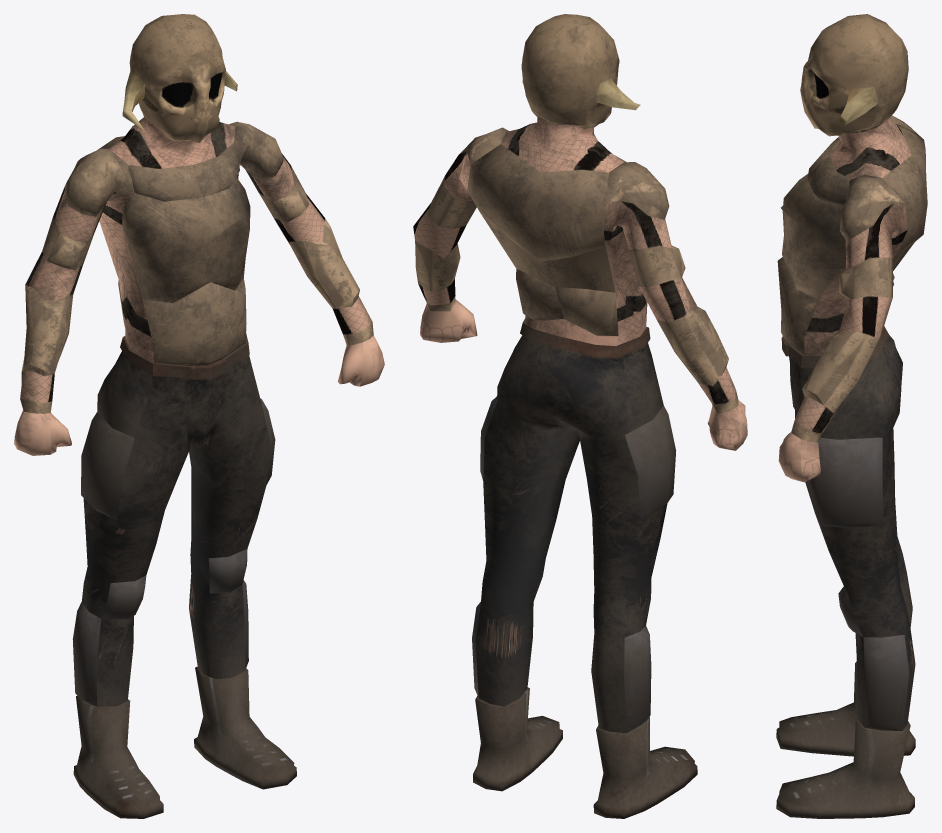
File: Anim_idle_npc1.0034.obj
3 views of the same model, side by side, from view 1: azimuth 30°, elevation 25°; view 2: azimuth 150°, elevation 25°; view 3: azimuth 270°, elevation 25° (orthographic).
Visible parts, largest first — view 1: NPC2; view 2: NPC2; view 3: NPC2.
Boxes of the visible parts, bbox=[...] form: NPC2: bbox=[14, 14, 384, 818]; NPC2: bbox=[413, 14, 747, 818]; NPC2: bbox=[776, 14, 927, 818].
Bounding box in the file's own units: 4.57 × 9.66 × 1.74.
